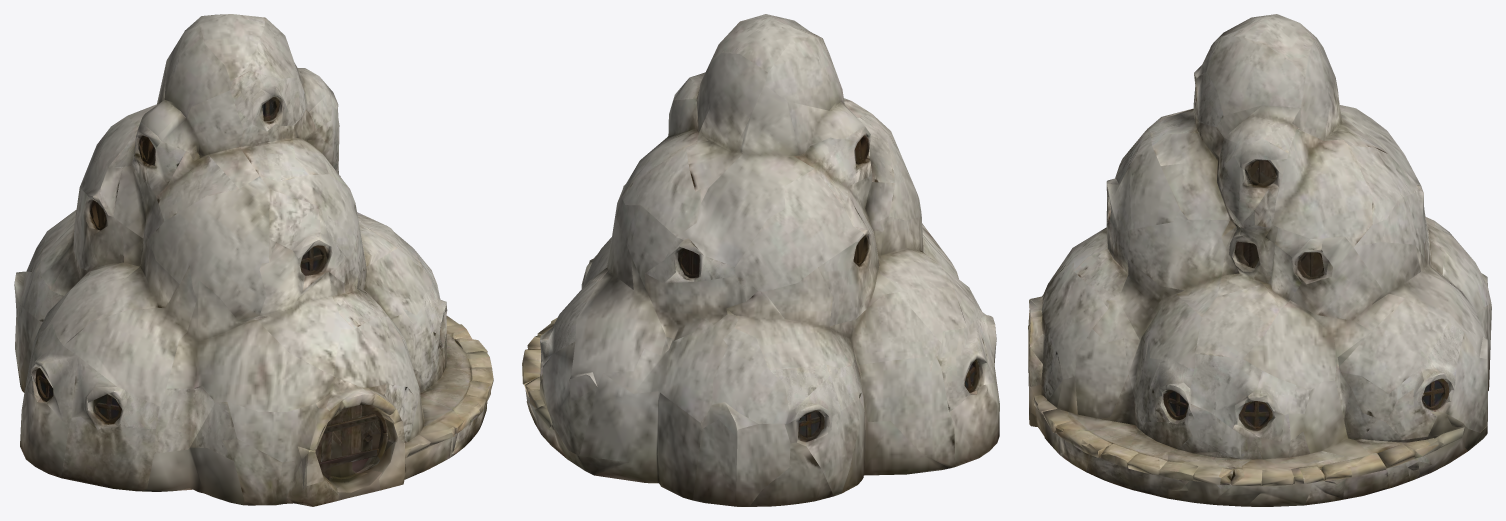
File: pauhouse.lod1.glb
3 views of the same model, side by side, from view 1: azimuth 30°, elevation 25°; view 2: azimuth 150°, elevation 25°; view 3: azimuth 270°, elevation 25° (orthographic). The views are drawn at different scales.
Parts seen in each view (by area): view 1: pauhouse-centred; view 2: pauhouse-centred; view 3: pauhouse-centred.
Boxes of the visible parts, left/top/right/bottom form: pauhouse-centred: left=14, top=14, right=493, bottom=506; pauhouse-centred: left=522, top=14, right=999, bottom=506; pauhouse-centred: left=1028, top=14, right=1491, bottom=506.
Bounding box in the file's own units: 16.16 × 14 × 15.33.
Materials: 1 (1 with a texture image).
